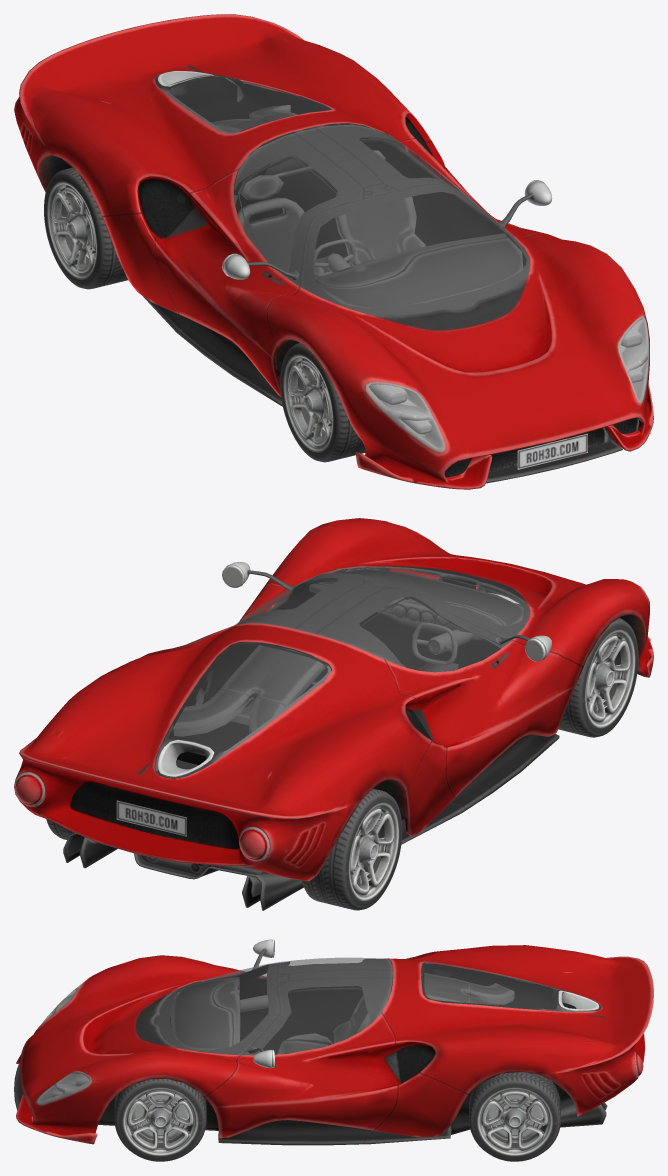
The model's file is low-poly-car-de-tomaso-p72-2020-ab85c3.glb.
The picture shows the model from 3 angles, top to bottom: view 1: azimuth 30°, elevation 25°; view 2: azimuth 150°, elevation 25°; view 3: azimuth 270°, elevation 25°; orthographic projection. The views are drawn at different scales.
Parts seen in each view (by area): view 1: body; view 2: body; view 3: body.
Part boxes in pixels (x1,y1,x2,y2): body: (14, 14, 653, 489); body: (14, 518, 653, 910); body: (14, 939, 653, 1161).
Bounding box in the file's own units: 2.08 × 1.11 × 4.74.
Materials: 1 (1 with a texture image).
